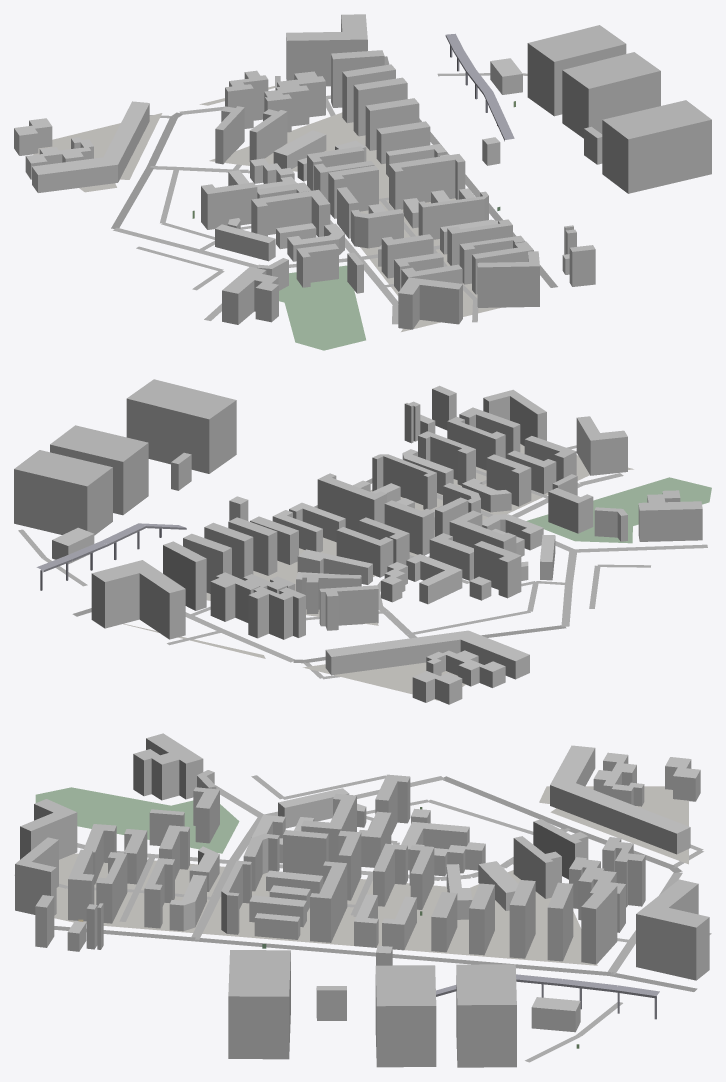
3 renders of one model, top to bottom at view 1: azimuth 30°, elevation 25°; view 2: azimuth 150°, elevation 25°; view 3: azimuth 270°, elevation 25°, orthographic. The views are drawn at different scales.
Size of the model in its own units: 552 by 55.26 by 534.
